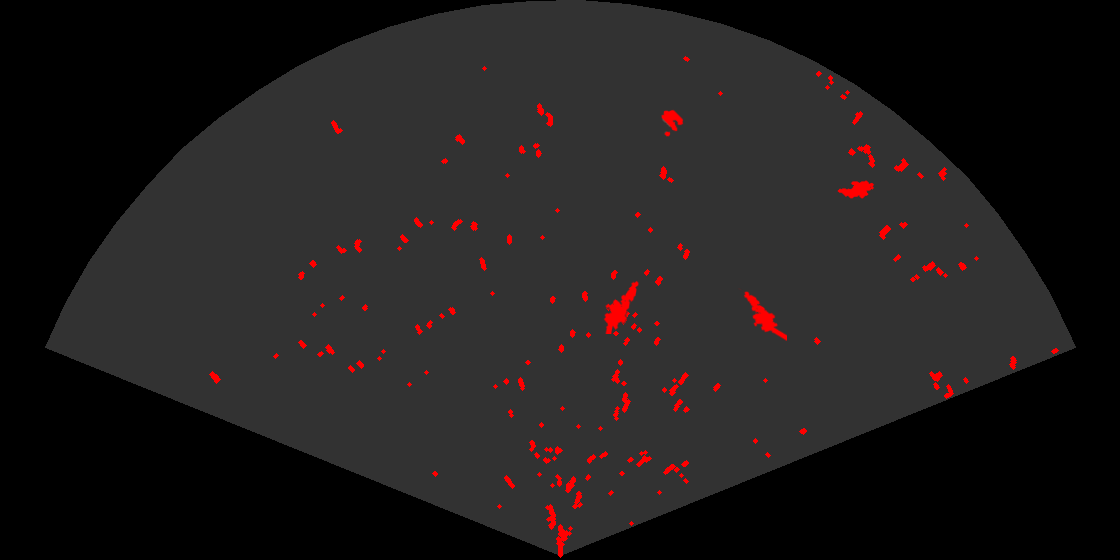AUV: (836, 179, 876, 200)
ball: (660, 108, 685, 138)
frogman: (737, 288, 787, 341), (602, 279, 640, 334)
